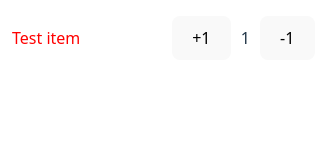
Test: ItemCounter › should increase count when +1 button is pressed
Click the button "+1" at (201, 38), box left=172, top=16, right=231, bottom=60
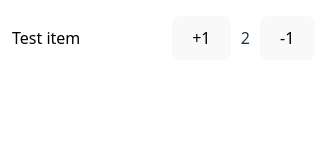
Now the text "2" is shown, box left=241, top=26, right=250, bottom=50
